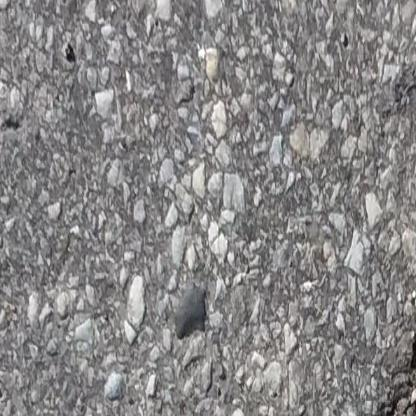Cracks: (335, 297, 416, 416)
